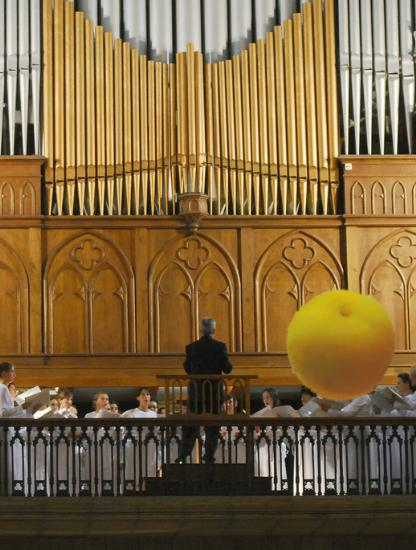Peach: (282, 286, 398, 402)
